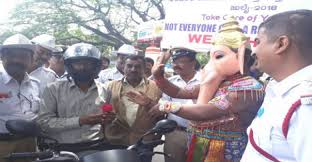helmet: (60, 44, 108, 83)
